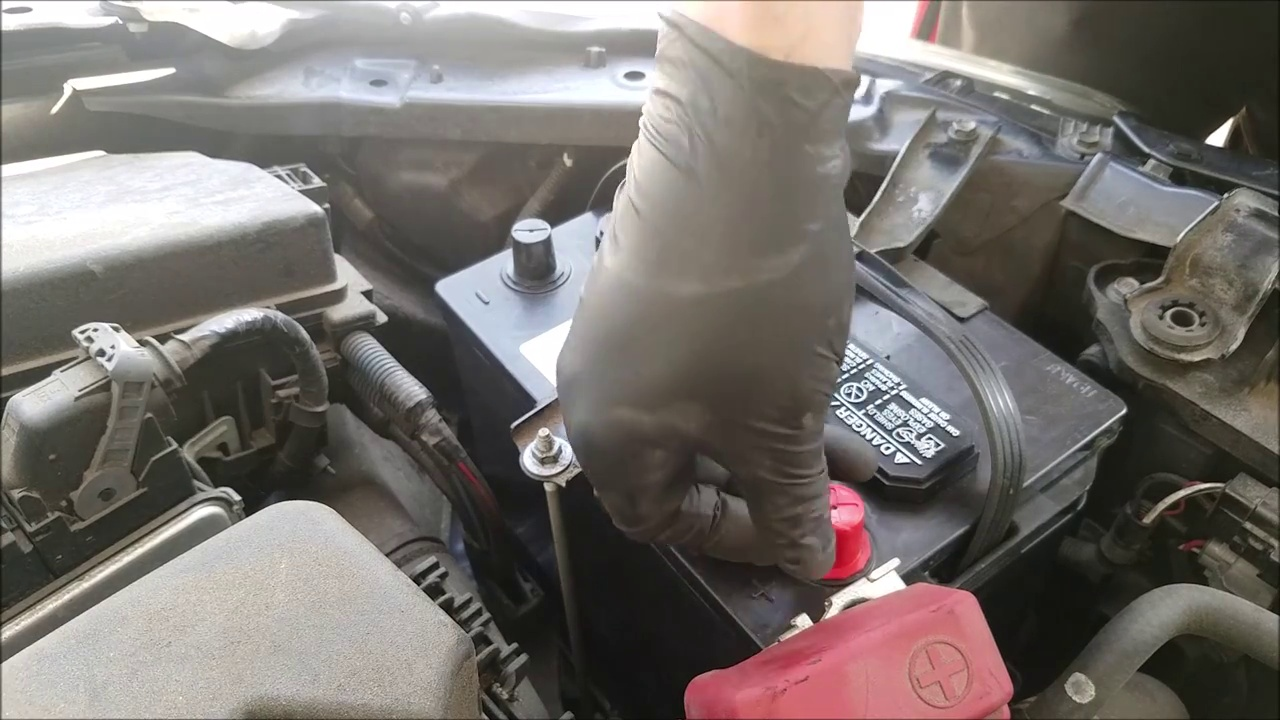battery: (408, 170, 1138, 629)
pos_disconnected: (744, 468, 967, 720)
pos_touched: (605, 370, 973, 720)
